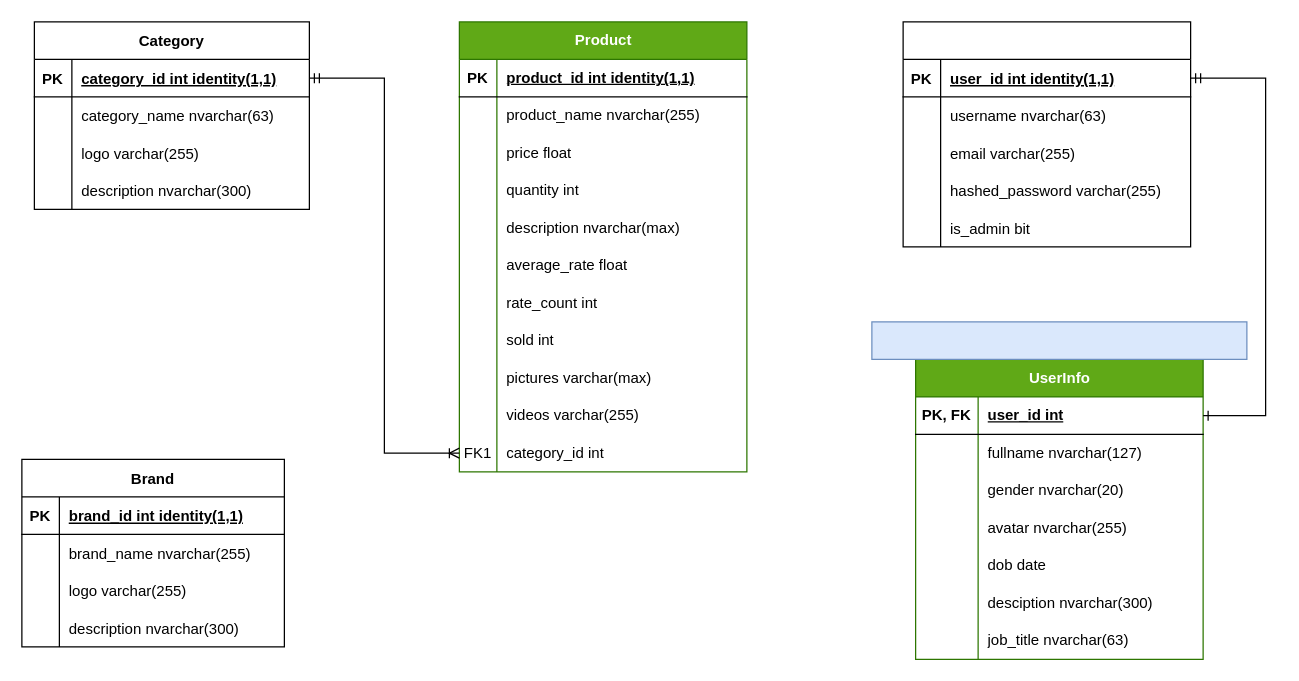
Some shapes in this 1299 by 681 pixel diagram are drawn without their labels. Here are the shapes that lost their labels. From the top down, the box of each, then its label:
(902, 21, 1191, 247): Account
(871, 321, 1247, 359): Trigger Insert into UserInfo after Insert into Account
